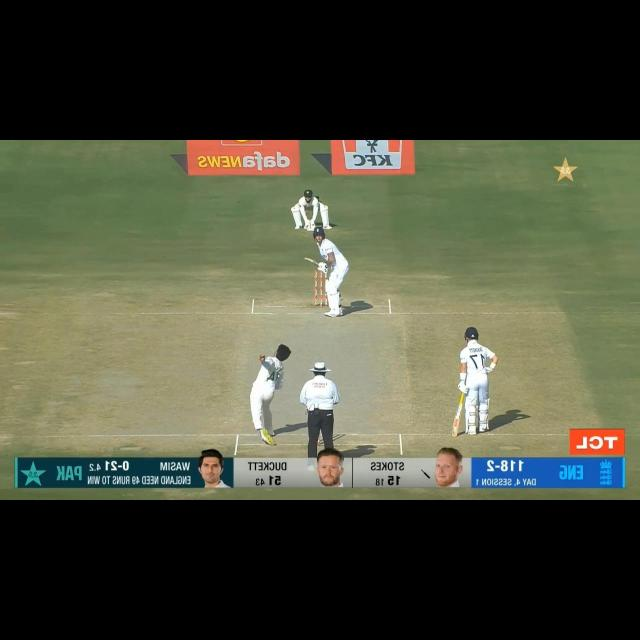bat: (450, 404, 462, 439), (302, 255, 319, 268)
toe: (451, 425, 458, 437), (303, 257, 312, 263)
